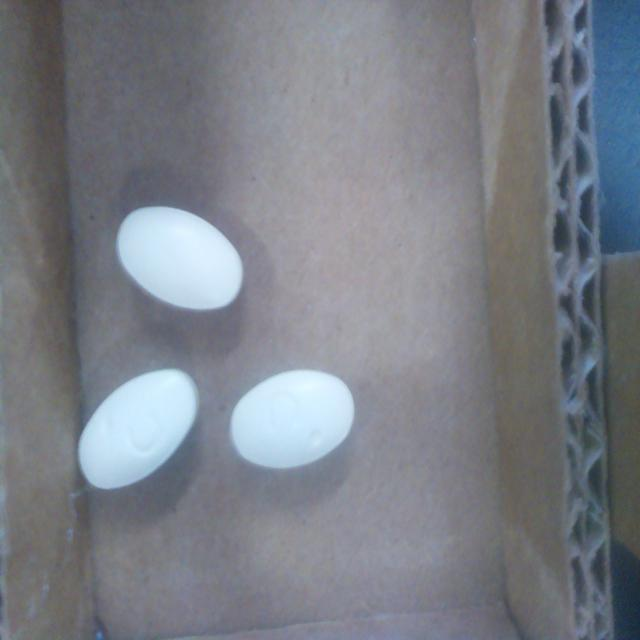pill: (78, 369, 199, 489), (117, 206, 243, 311), (231, 369, 355, 469)
